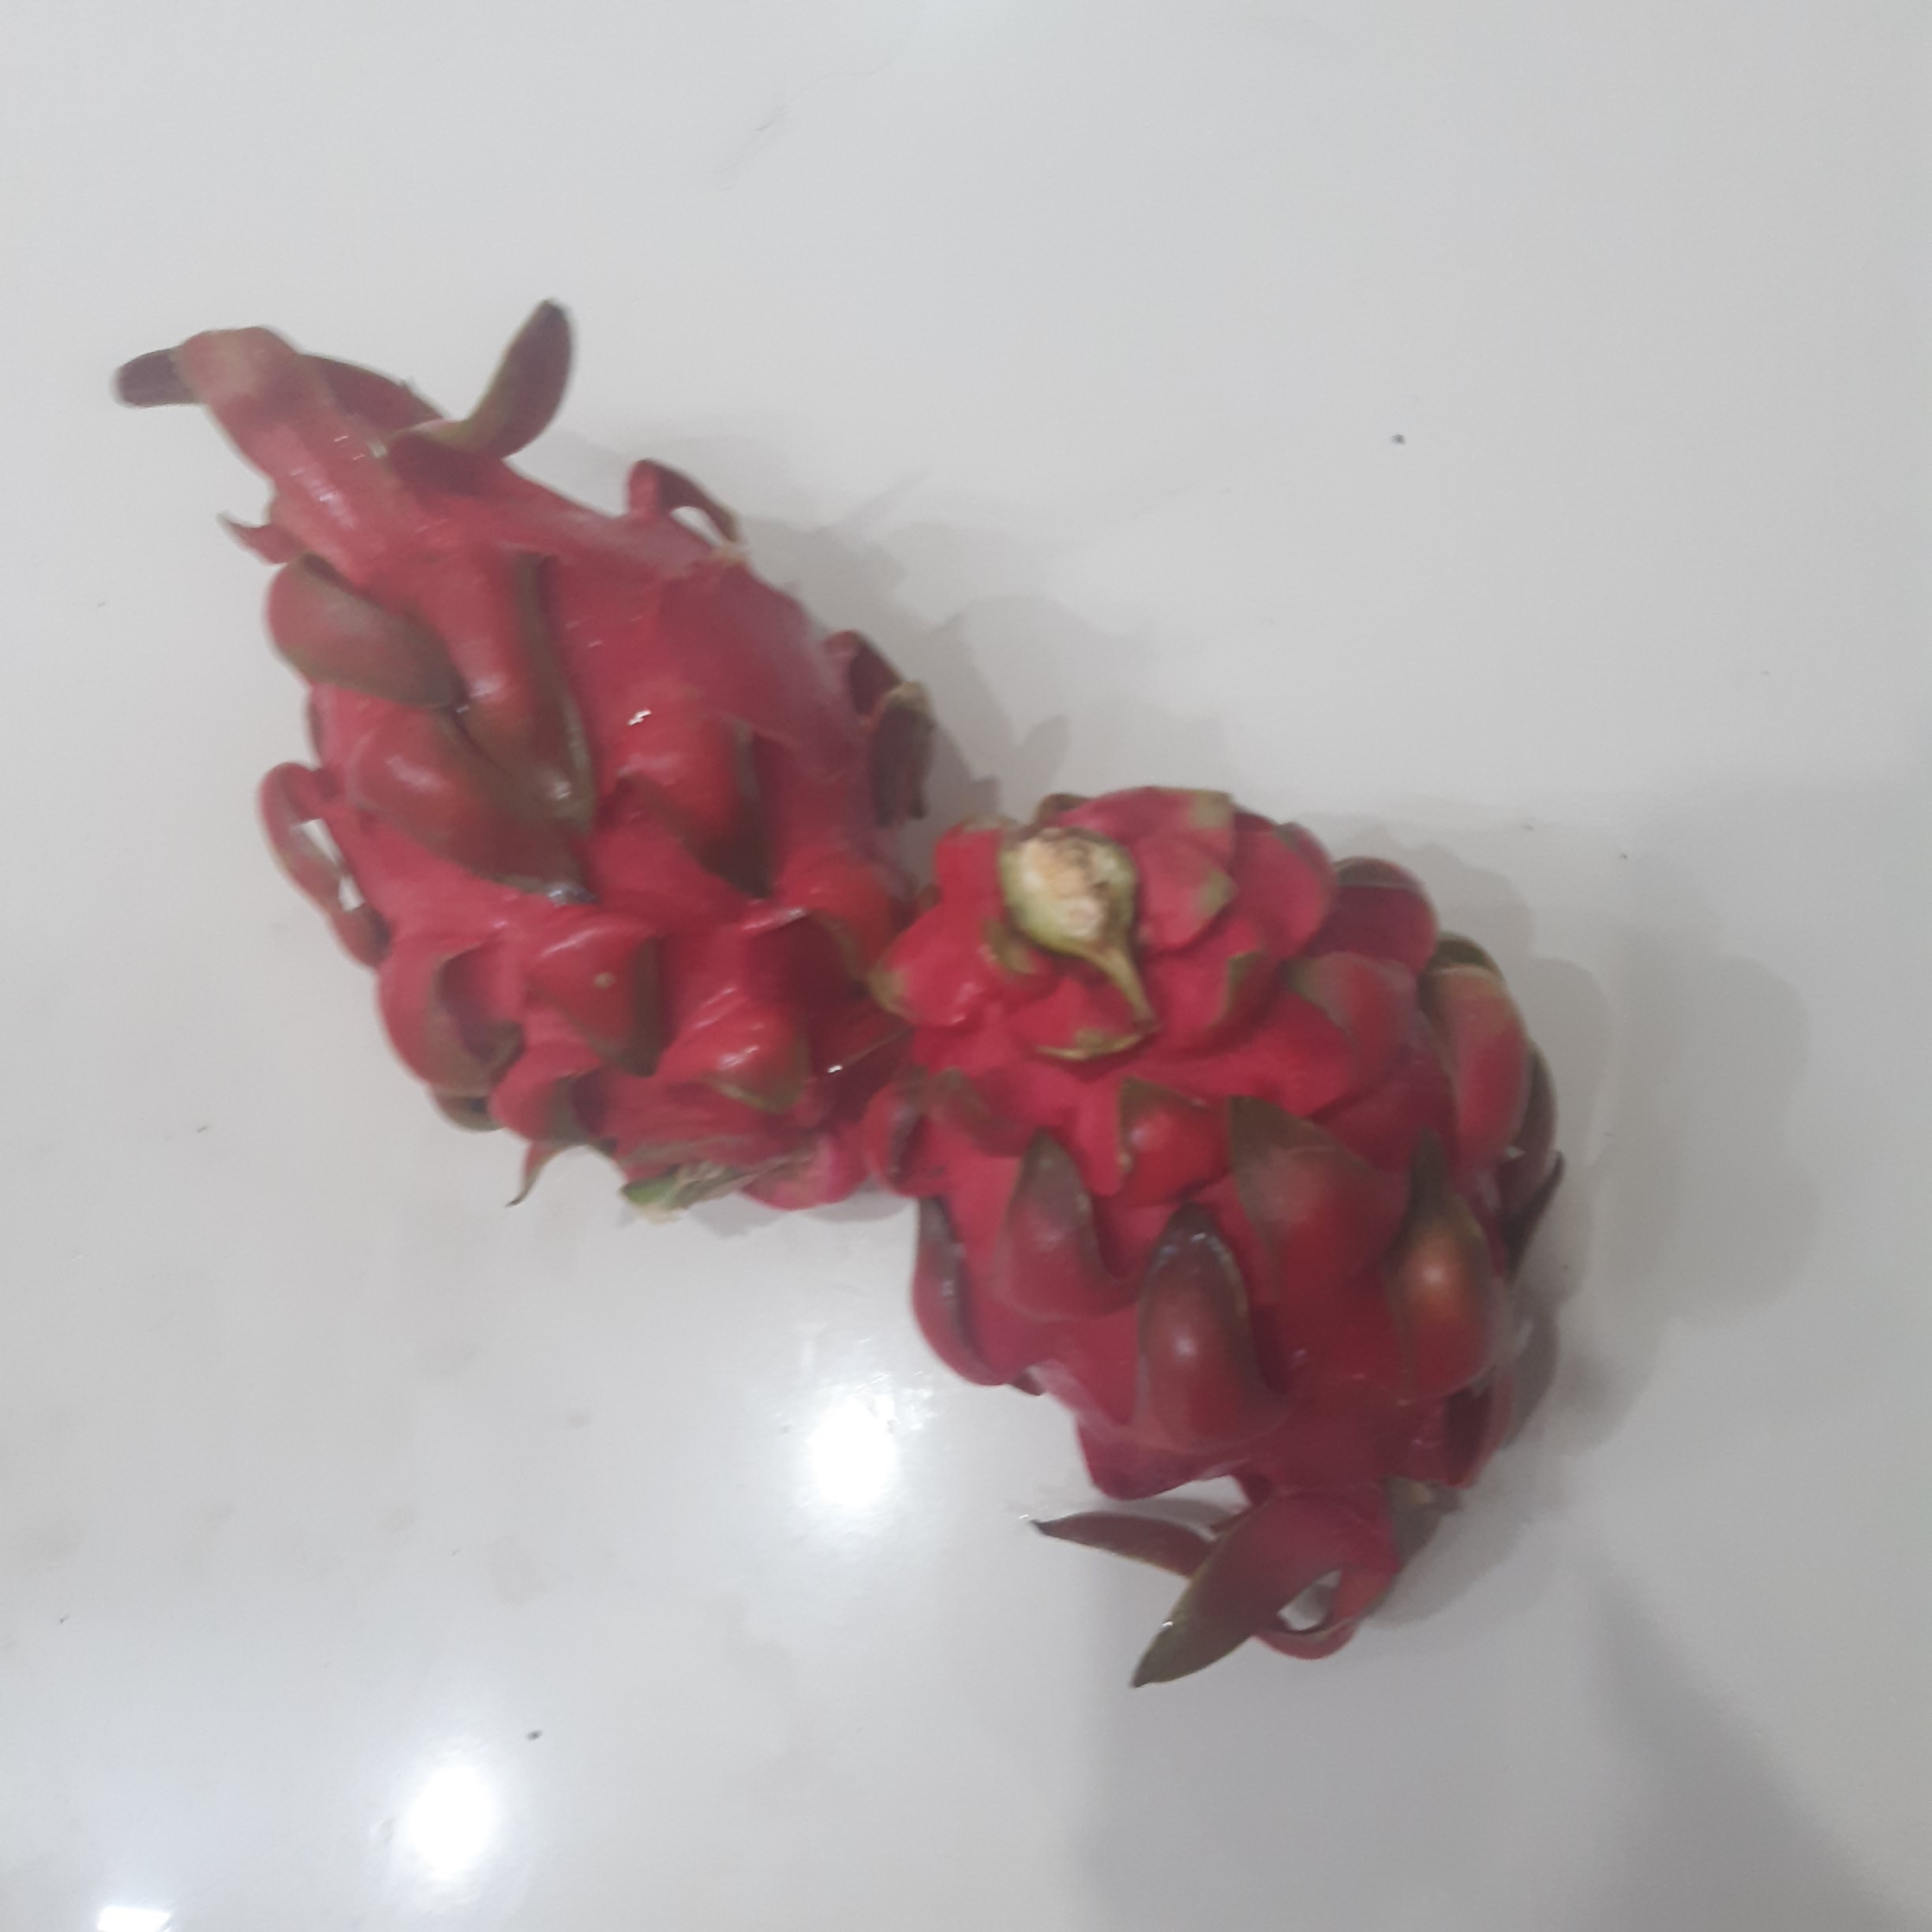Thanh long: (886, 780, 1545, 1514), (267, 462, 909, 1187)
